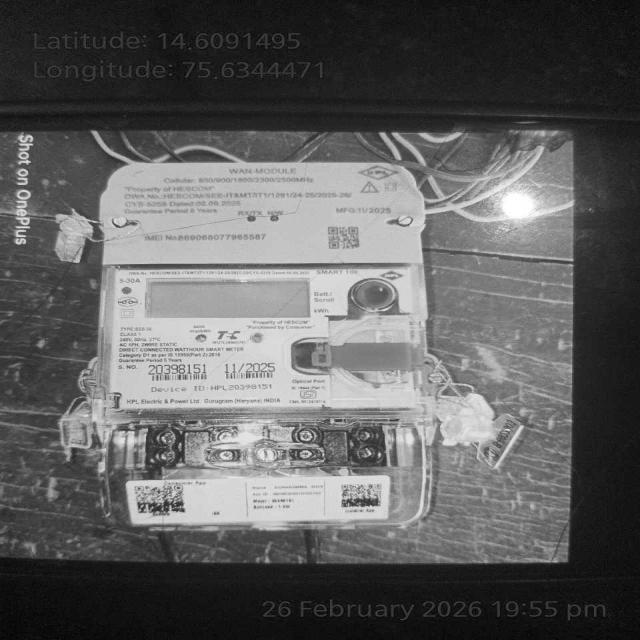meter: (102, 163, 427, 408)
